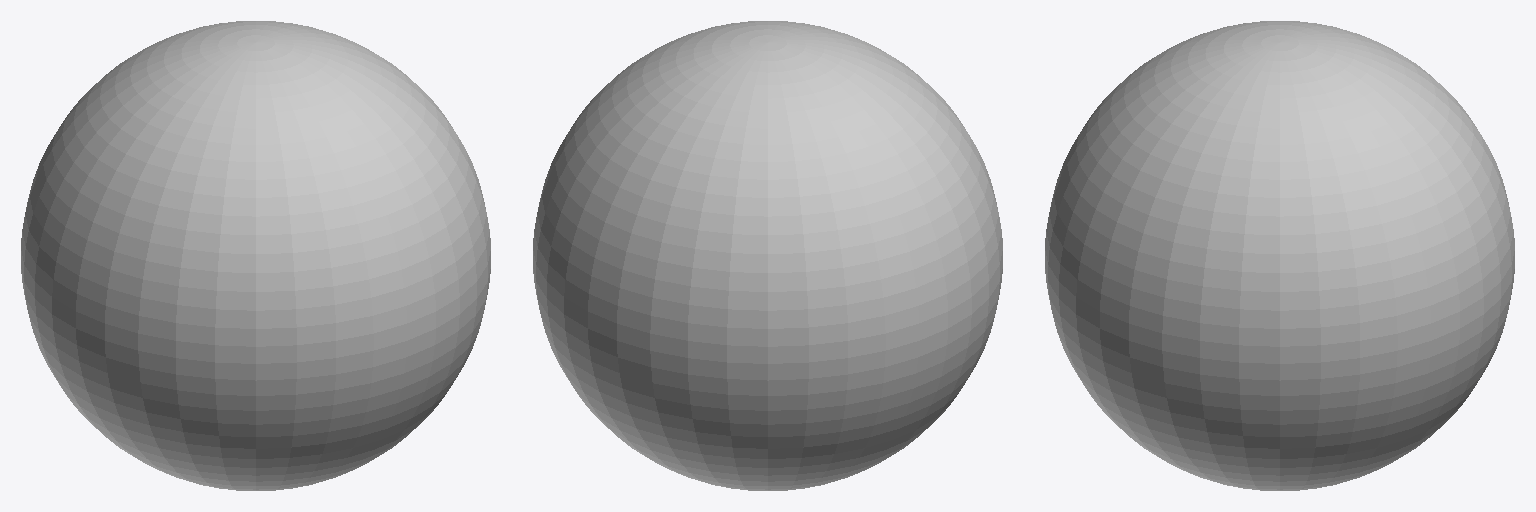
The model's file is earth.obj.
The picture shows the model from 3 angles: view 1: azimuth 30°, elevation 25°; view 2: azimuth 150°, elevation 25°; view 3: azimuth 270°, elevation 25°; orthographic projection.
Visible parts, largest first — view 1: Sphere.001_Sphere.004; view 2: Sphere.001_Sphere.004; view 3: Sphere.001_Sphere.004.
Part boxes in pixels (x1,y1,x2,y2): Sphere.001_Sphere.004: (21, 21, 490, 490); Sphere.001_Sphere.004: (533, 21, 1002, 490); Sphere.001_Sphere.004: (1045, 21, 1514, 490).
Bounding box in the file's own units: 2.03 × 2.03 × 2.03.